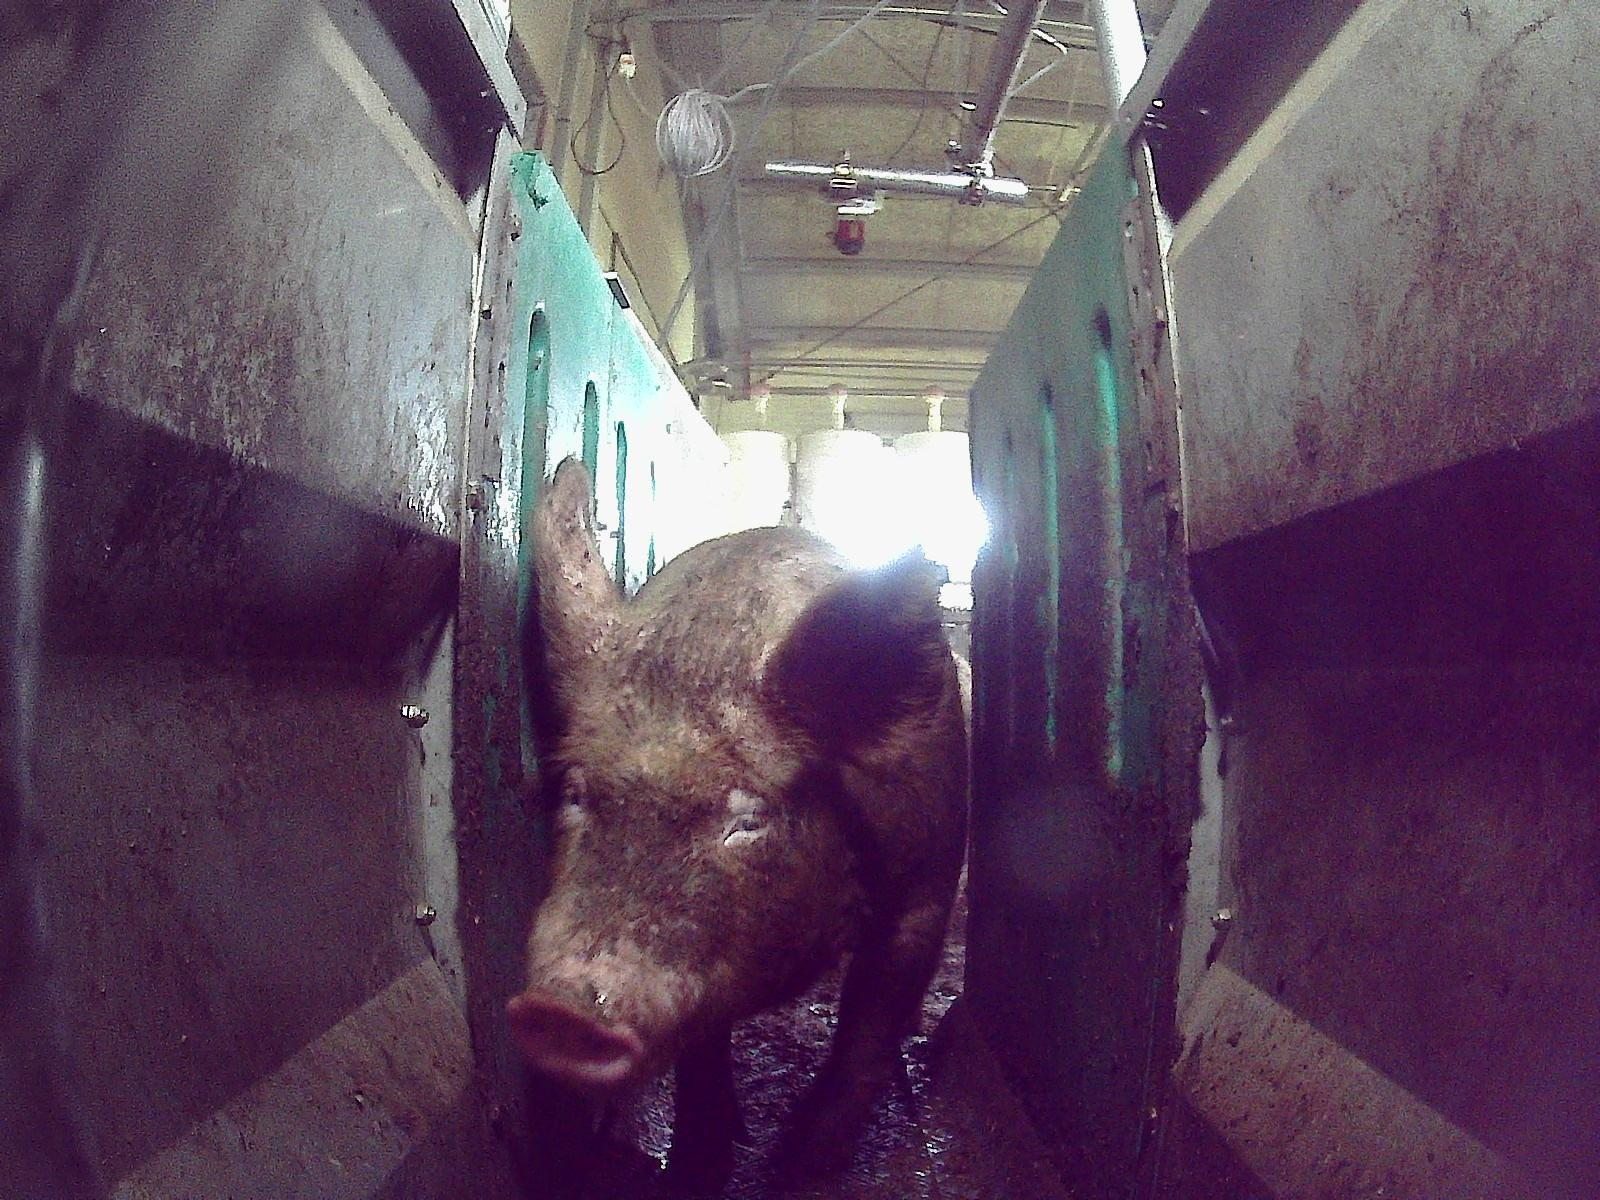Face: (510, 628, 854, 1086)
